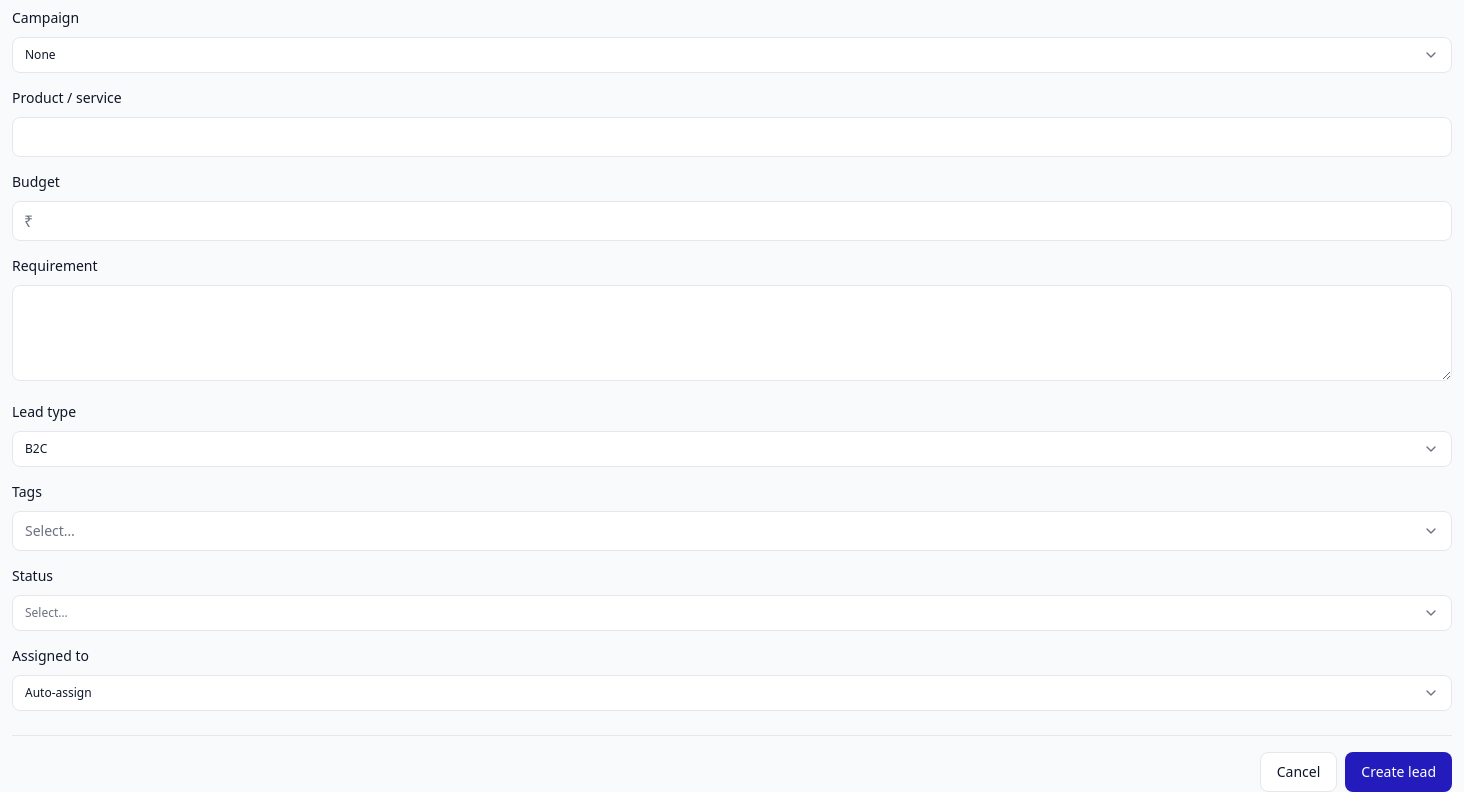
Test: LeadForm › requires a name and a contact method
(page scrolled)
Click the button "Create lead".
click(1399, 772)  # box [1345, 752, 1452, 791]
(page scrolled)
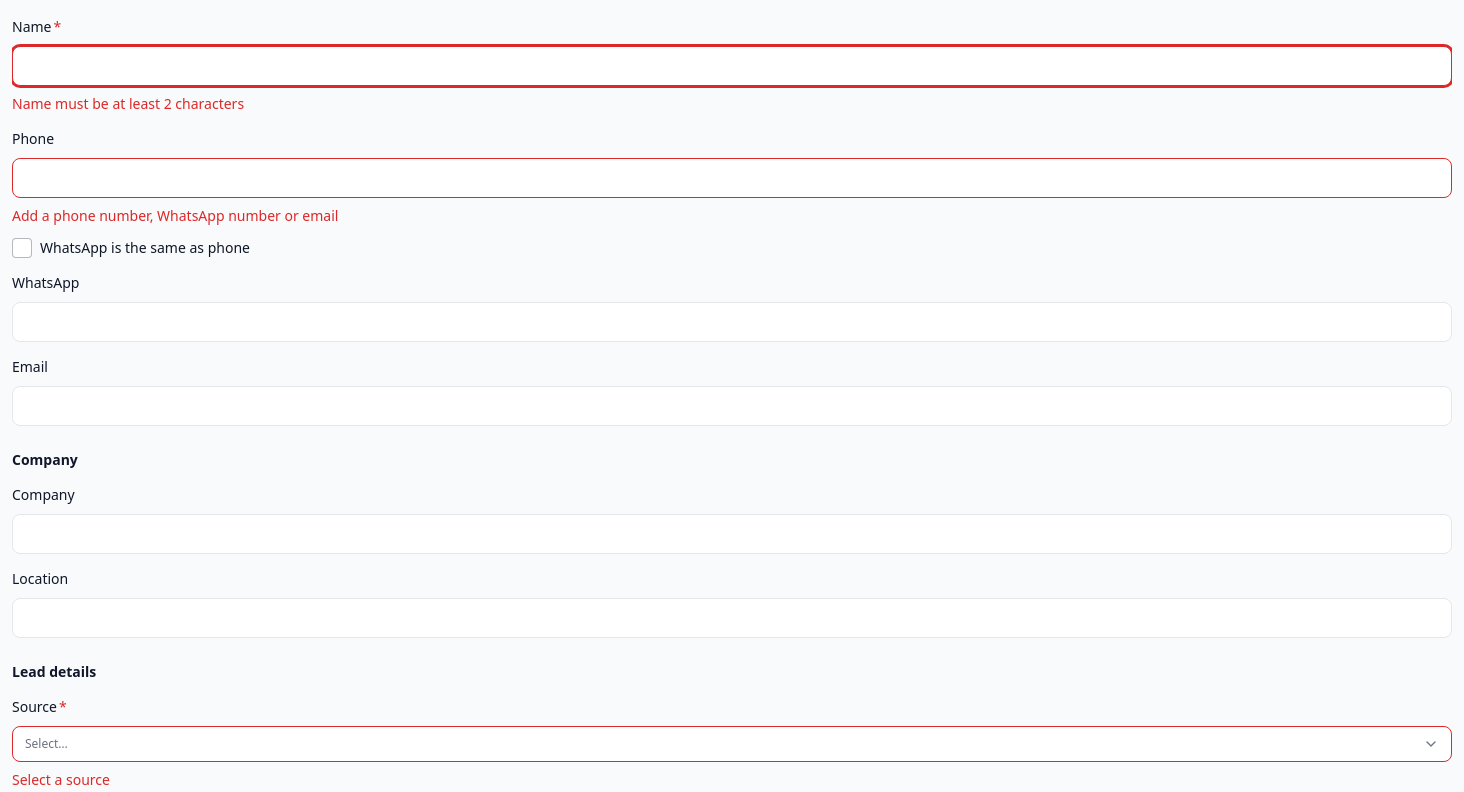
Now the text "Name must be at least 2 characters" is shown, box [12, 94, 244, 113]
